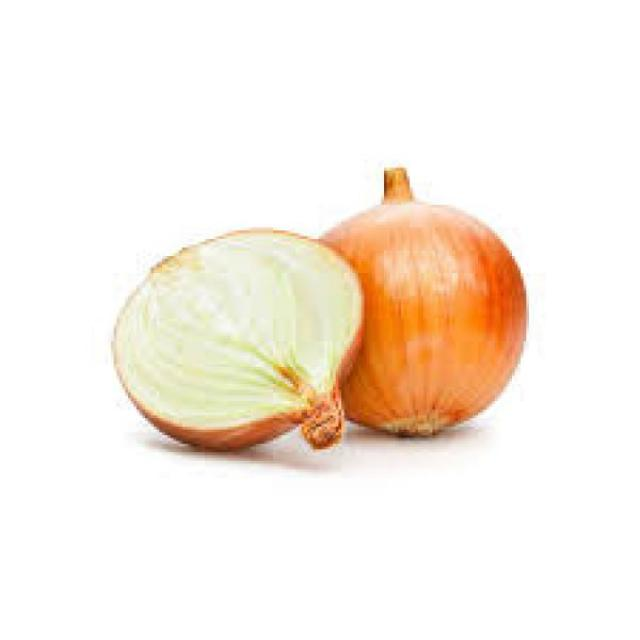Onion: (316, 167, 528, 439), (111, 229, 367, 453)
